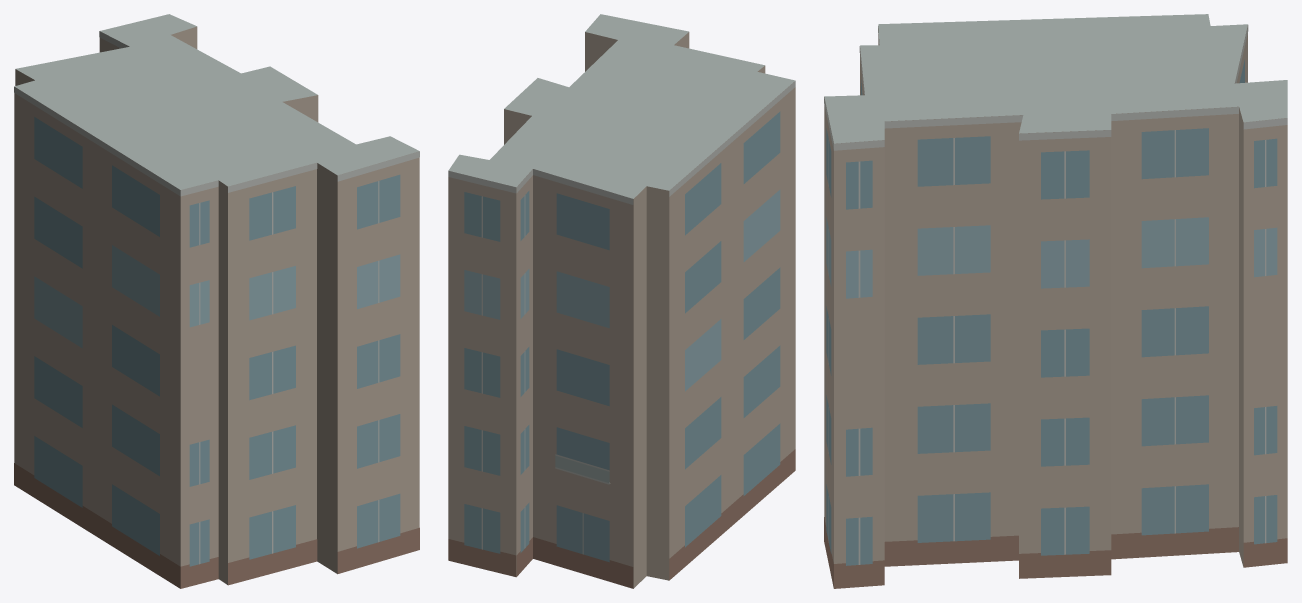
Rendered from survey-upis-32644426.glb.
The picture shows the model from 3 angles, left to right: view 1: azimuth 30°, elevation 25°; view 2: azimuth 150°, elevation 25°; view 3: azimuth 270°, elevation 25°; orthographic projection. The views are drawn at different scales.
Parts seen in each view (by area): view 1: survey-upis-32644426.tmp; view 2: survey-upis-32644426.tmp; view 3: survey-upis-32644426.tmp.
Boxes of the visible parts, bbox=[...] form: survey-upis-32644426.tmp: bbox=[14, 14, 419, 588]; survey-upis-32644426.tmp: bbox=[448, 14, 795, 588]; survey-upis-32644426.tmp: bbox=[824, 14, 1287, 588].
Bounding box in the file's own units: 9.53 × 15.25 × 14.4.
